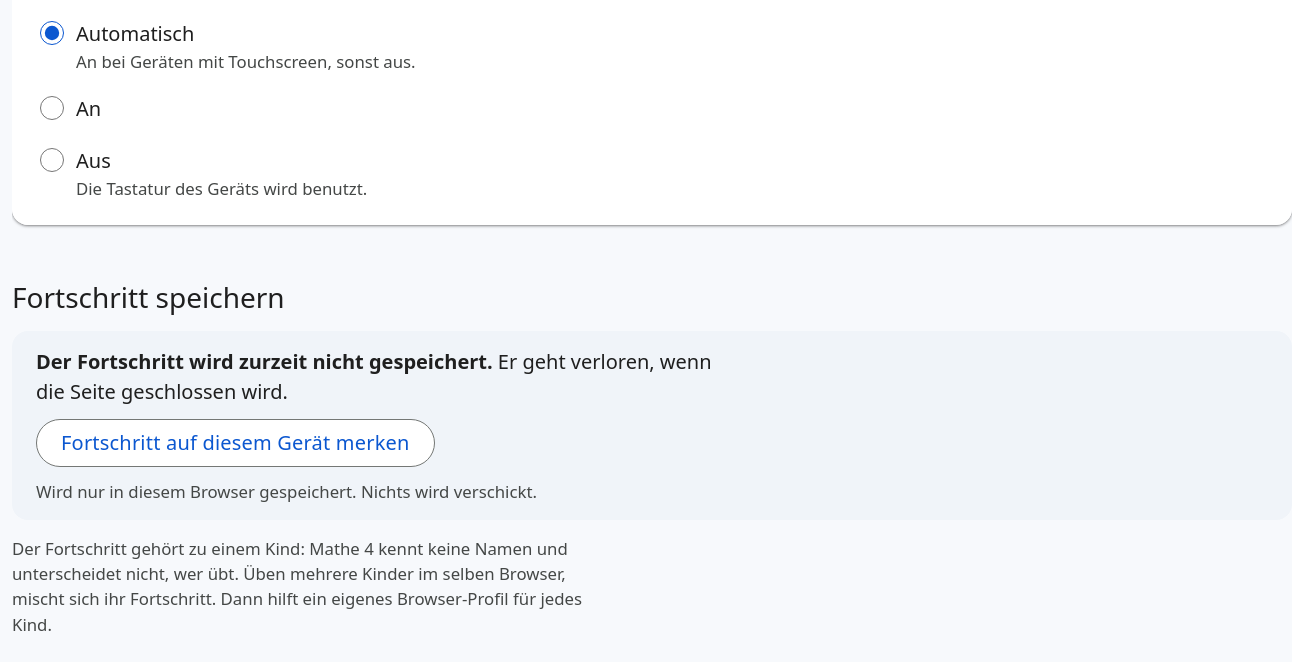
Test: Fortschritt sichern / laden / löschen › switches storage on ("merken") and off ("Nicht mehr merken")
(page scrolled)
Check: the element with test id "storage-status" shows "zurzeit nicht gespeichert", box [36,348,493,375]
What coordinates should you click on to do the following:
click the button "Fortschritt auf diesem Gerät merken"
I would click on:
 (235, 443)
Its box is [36,419,435,467].
(page scrolled)
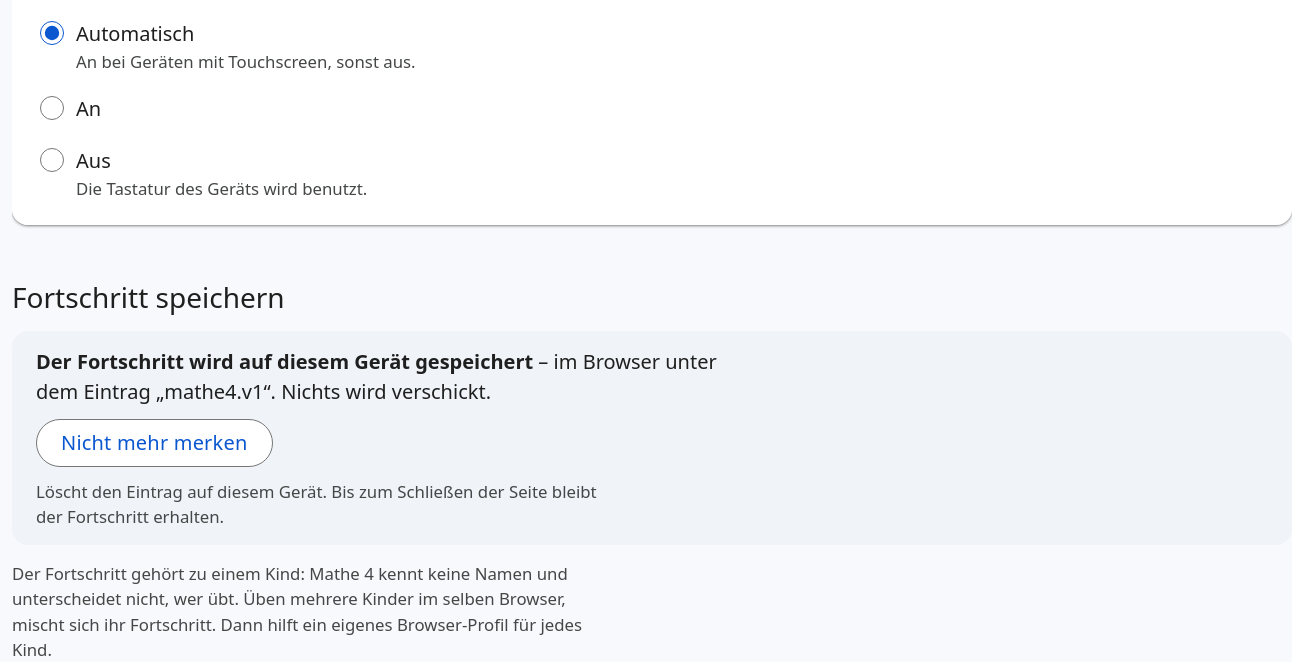
Check: the element with test id "storage-status" shows "mathe4.v1", box [164,378,264,405]
What coordinates should you click on to do the following:
click the button "Nicht mehr merken"
I would click on:
 (154, 443)
Its box is [36,419,272,467].
(page scrolled)
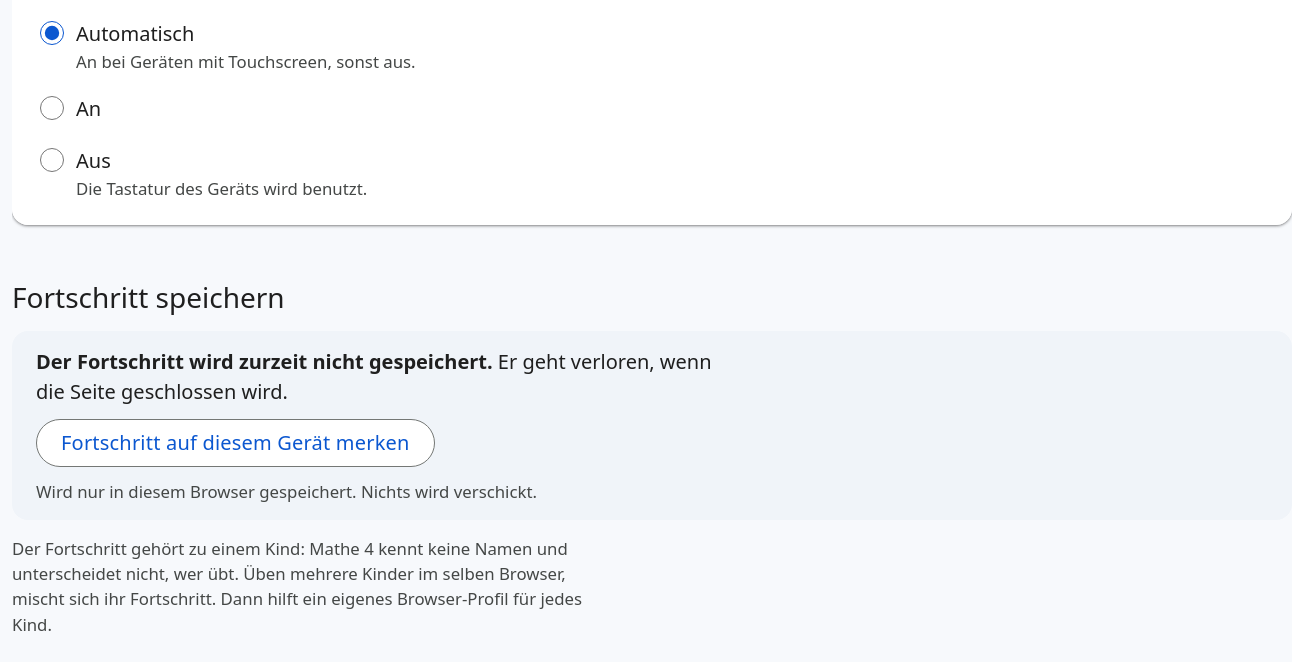
Check: the element with test id "storage-status" shows "zurzeit nicht gespeichert", box [36,348,493,375]
